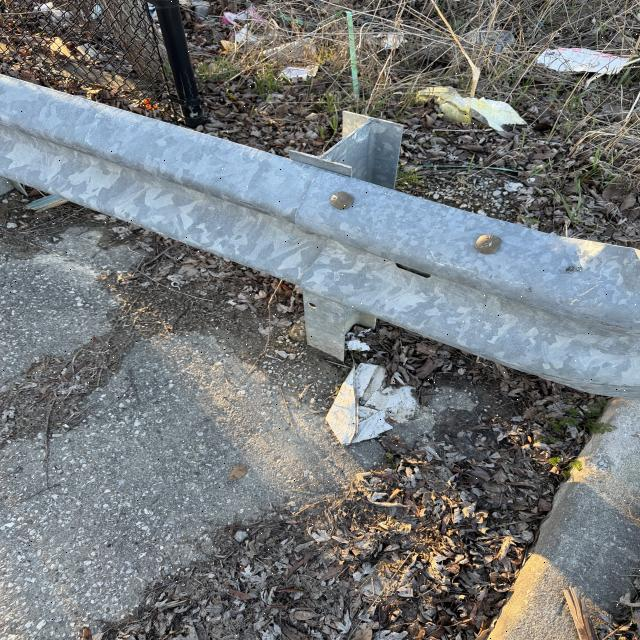Guard rail: (3, 90, 605, 360)
